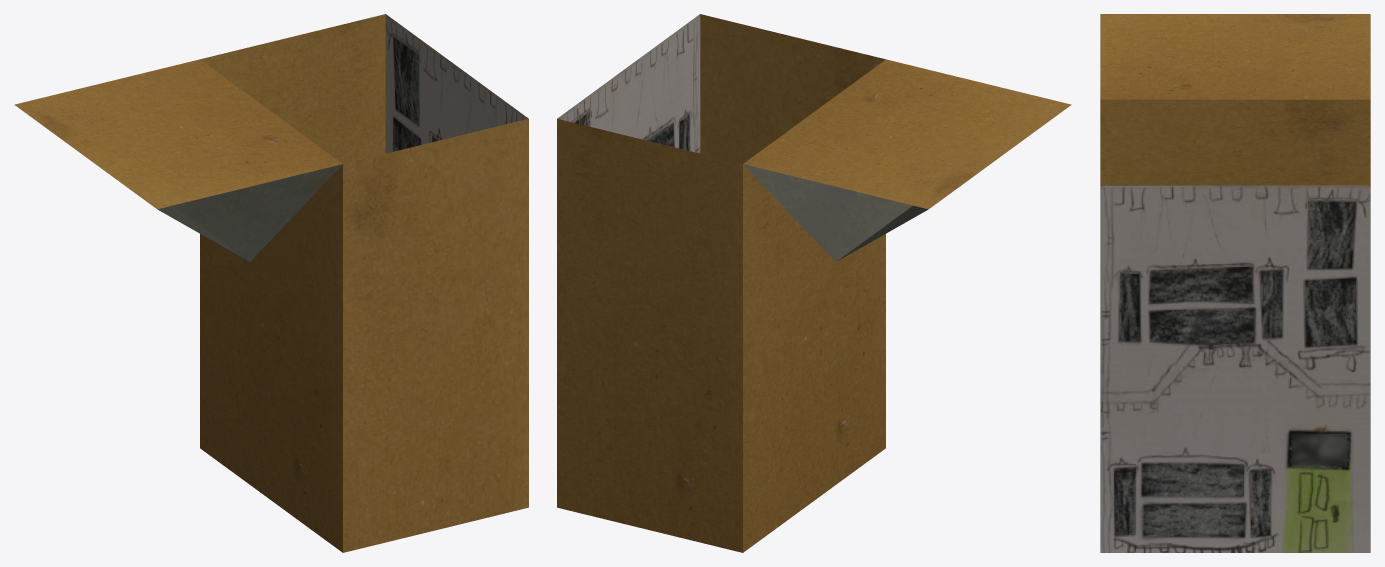
The picture shows the model from 3 angles, left to right: view 1: azimuth 30°, elevation 25°; view 2: azimuth 150°, elevation 25°; view 3: azimuth 270°, elevation 25°; orthographic projection. The views are drawn at different scales.
Parts seen in each view (by area): view 1: Cube, Cube.003, Cube.002; view 2: Cube, Cube.003, Cube.002; view 3: Cube, Cube.002, Cube.003.
Boxes of the visible parts, bbox=[...] form: Cube: bbox=[200, 118, 528, 552]; Cube.003: bbox=[14, 59, 342, 261]; Cube.002: bbox=[200, 14, 528, 163]; Cube: bbox=[557, 118, 885, 552]; Cube.003: bbox=[743, 59, 1071, 261]; Cube.002: bbox=[557, 14, 885, 163]; Cube: bbox=[1100, 185, 1370, 552]; Cube.002: bbox=[1100, 99, 1370, 185]; Cube.003: bbox=[1100, 14, 1370, 99].
Bounding box in the file's own units: 15 × 15 × 10.
Materials: 1 (1 with a texture image).
